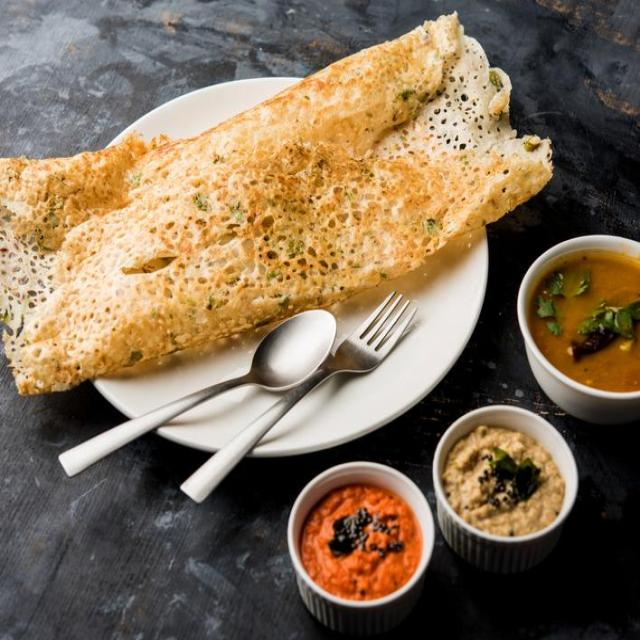Wet Waste: (1, 6, 573, 394)
